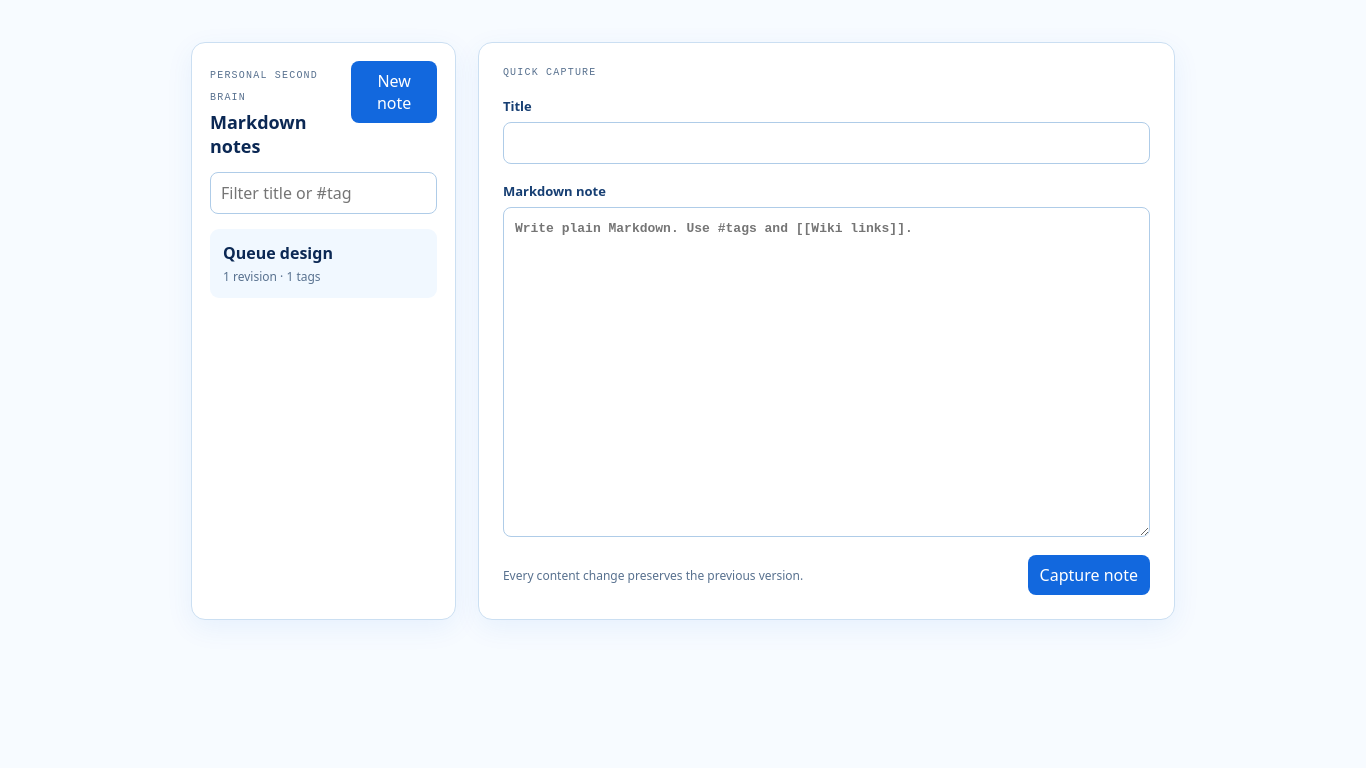
NotesView › shows deterministic note metadata and exact-version backlinks
Step 1. Click the button "Queue design 1 revision · 1 tags" → (323,264), box [210, 229, 437, 298]
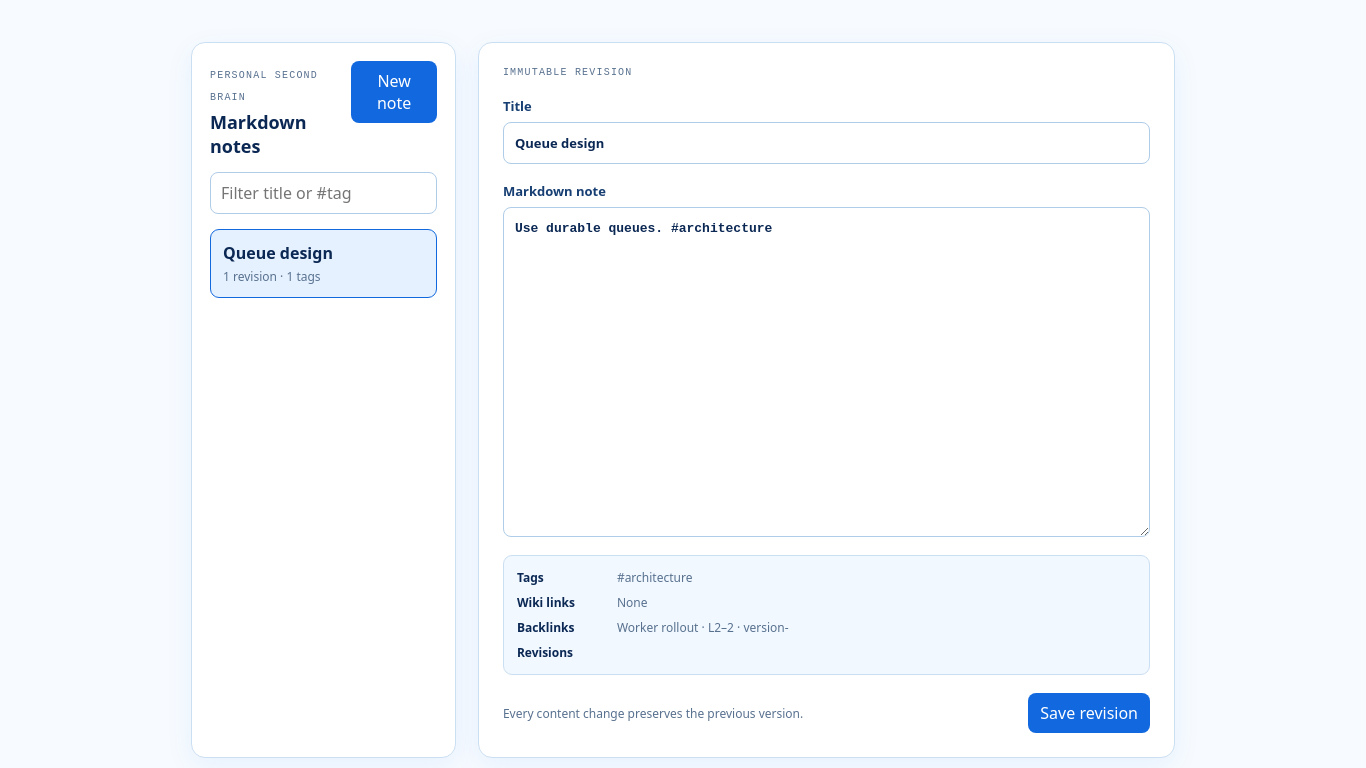
Now the text "#architecture" is shown, box [617, 569, 692, 586]
Now the text "Worker rollout · L2–2 · version-" is shown, box [617, 619, 789, 636]
